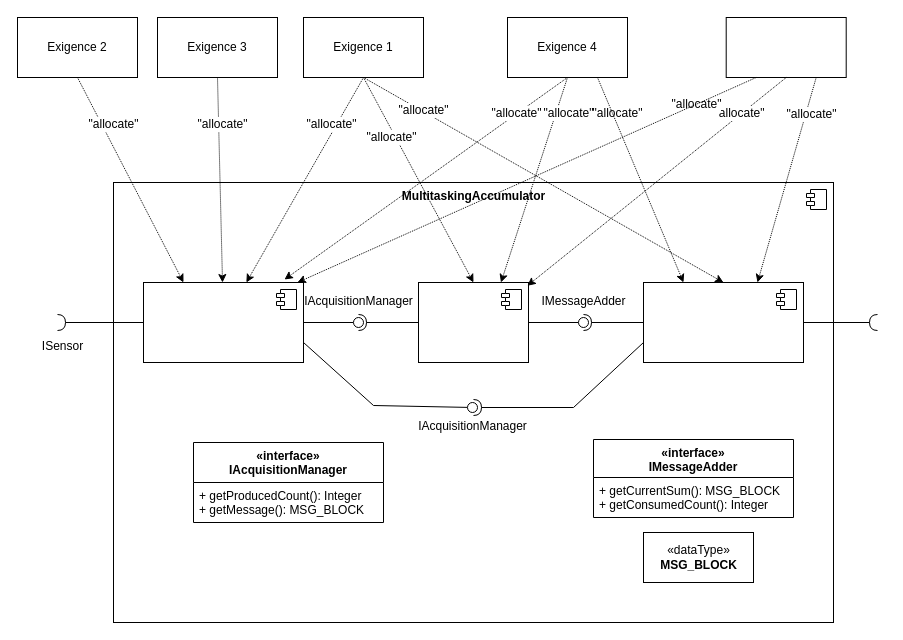
This 903x640 diagram has some shape labels left out. The shapes that lost their labels are listed below. From the top down, each one's centre as x and y in pixels, then its label:
point (785, 47): Exigence 5
point (223, 322): AcquisitionManager
point (473, 322): MessageAdder
point (723, 322): DisplayManager
